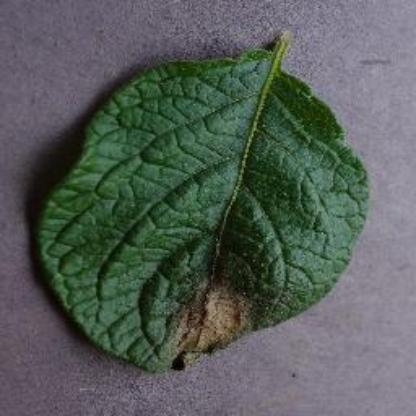Late-Blight: (18, 29, 390, 391)
